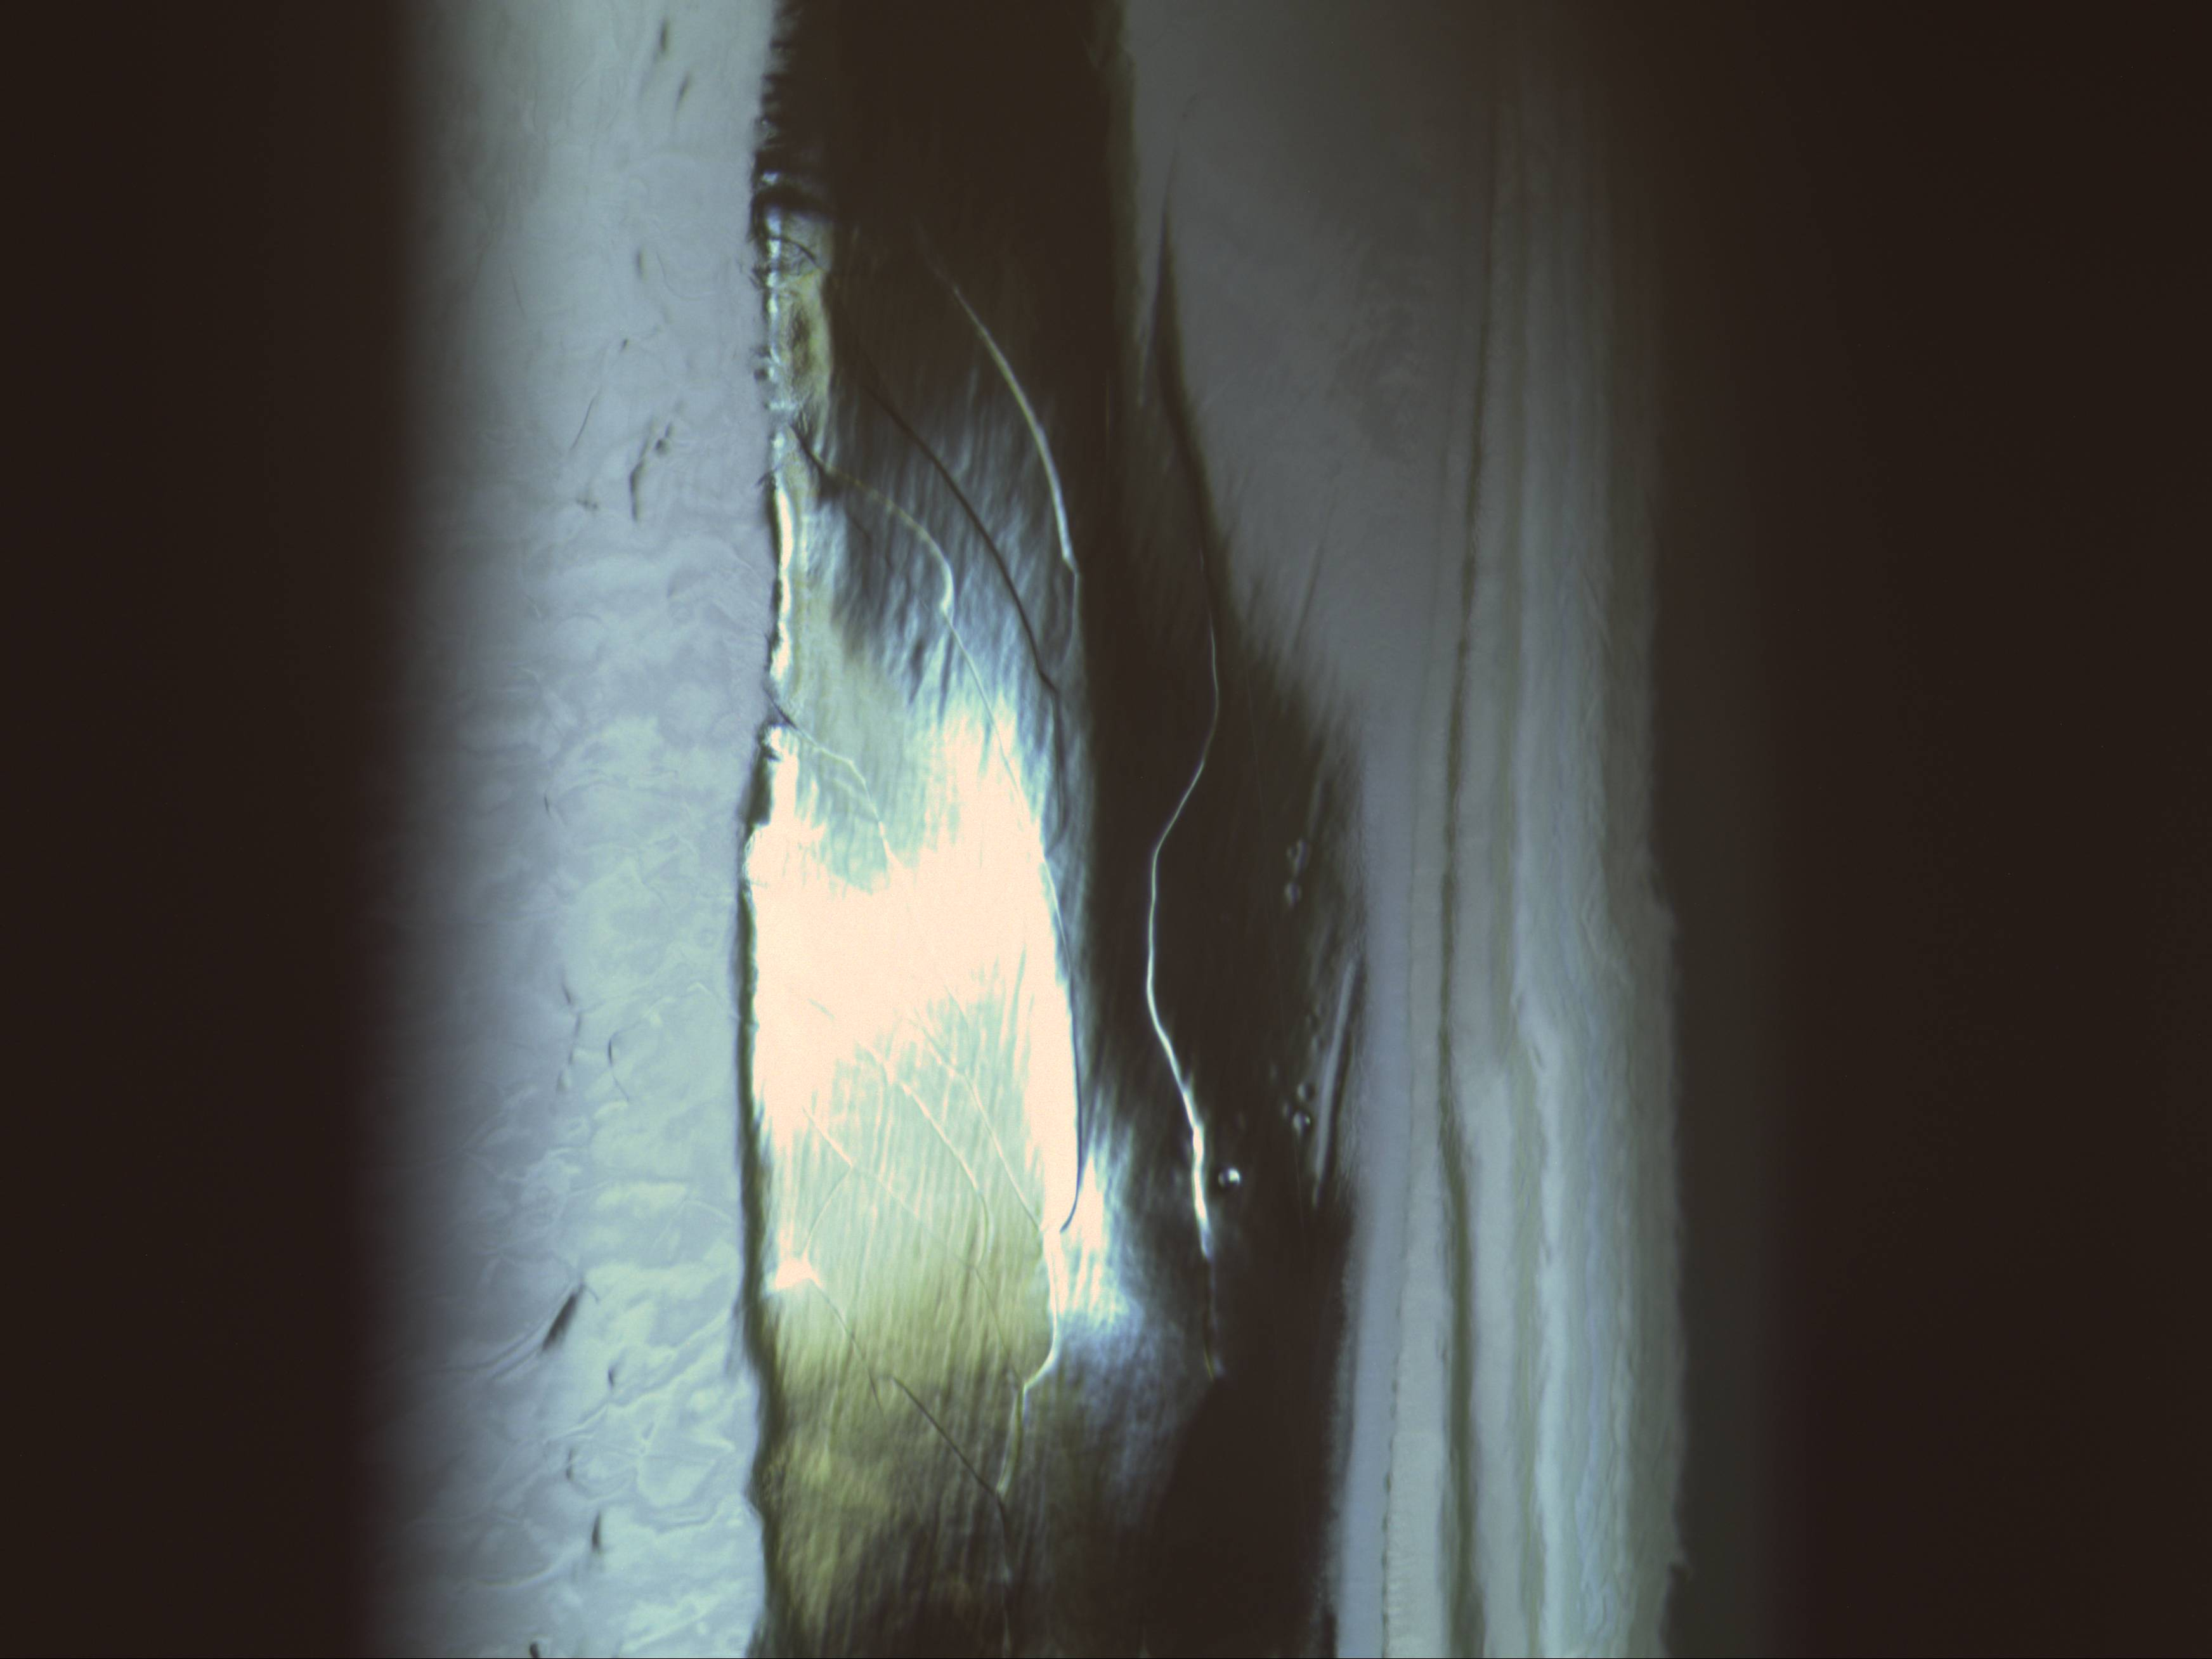defect: (1219, 1162, 1247, 1194), (1292, 1114, 1317, 1138)
